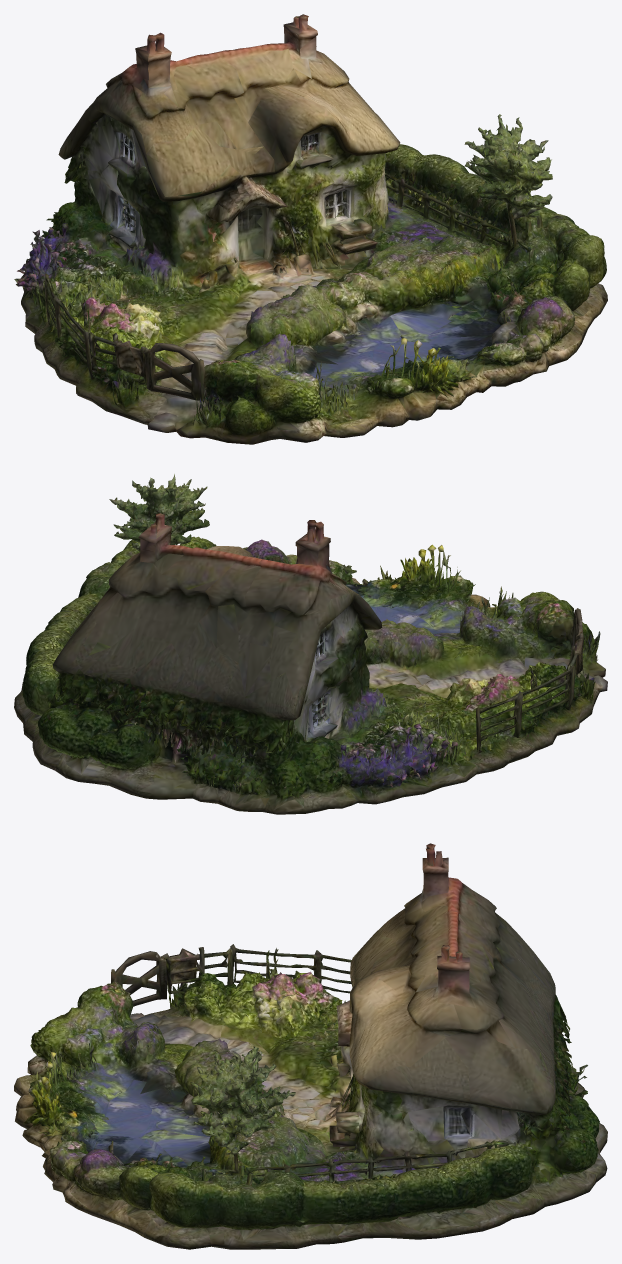
The model's file is An_english_country_co.glb.
3 renders of one model, top to bottom at view 1: azimuth 30°, elevation 25°; view 2: azimuth 150°, elevation 25°; view 3: azimuth 270°, elevation 25°, orthographic. The views are drawn at different scales.
Parts seen in each view (by area): view 1: An_english_country_co; view 2: An_english_country_co; view 3: An_english_country_co.
Part boxes in pixels (x1=…): An_english_country_co: x1=14, y1=14, x2=607, y2=444; An_english_country_co: x1=14, y1=474, x2=607, y2=814; An_english_country_co: x1=14, y1=843, x2=607, y2=1249.
Bounding box in the file's own units: 1.86 × 0.8663 × 1.9.
1 material, 1 textured.
